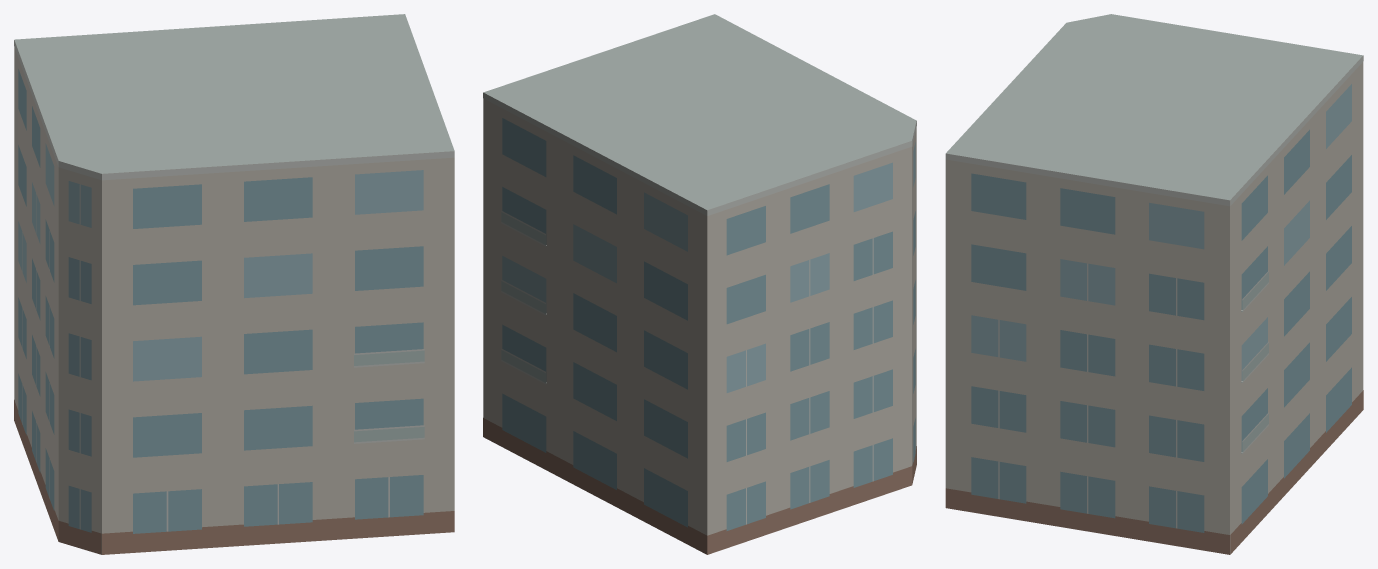
File: survey-upis-32869331.glb
The picture shows the model from 3 angles, left to right: view 1: azimuth 30°, elevation 25°; view 2: azimuth 150°, elevation 25°; view 3: azimuth 270°, elevation 25°; orthographic projection. The views are drawn at different scales.
Parts seen in each view (by area): view 1: survey-upis-32869331.tmp; view 2: survey-upis-32869331.tmp; view 3: survey-upis-32869331.tmp.
Part boxes in pixels (bbox=[...]): survey-upis-32869331.tmp: bbox=[14, 14, 454, 554]; survey-upis-32869331.tmp: bbox=[483, 14, 916, 554]; survey-upis-32869331.tmp: bbox=[945, 14, 1363, 554].
Size of the model in its own units: 16.13 by 14.3 by 15.28.
